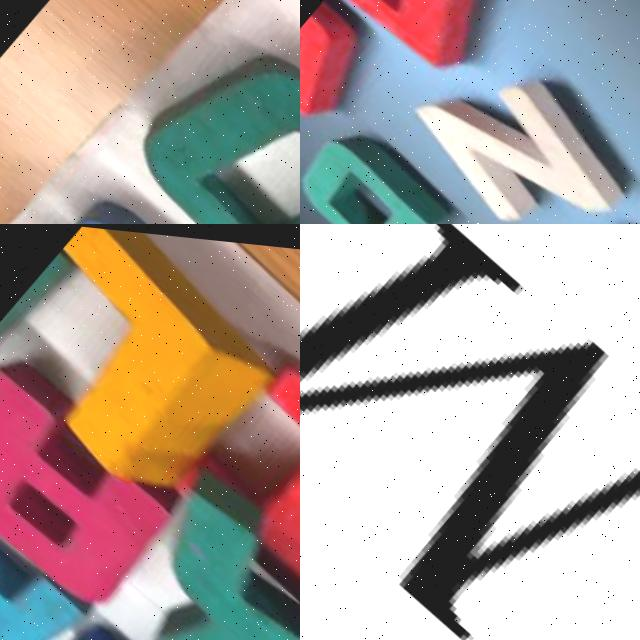A: (0, 339, 198, 622)
B: (0, 162, 281, 224)
D: (118, 0, 300, 224), (300, 112, 452, 224)
E: (328, 0, 533, 93)
K: (100, 445, 300, 640)
L: (0, 224, 299, 520)
M: (300, 224, 640, 640)
P: (0, 466, 105, 640)
T: (46, 565, 272, 640)
Z: (395, 11, 640, 224)
